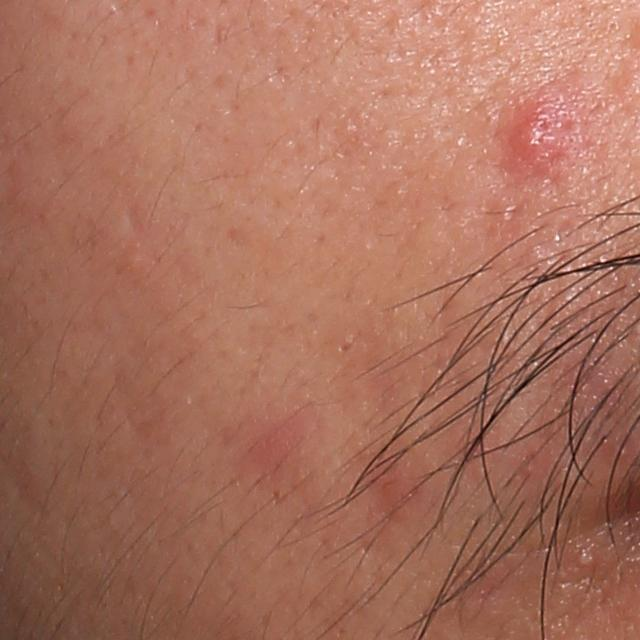atrophic_scar: (114, 202, 150, 250)
papule: (500, 76, 593, 181), (382, 449, 436, 527)
pustule: (565, 537, 604, 582)
